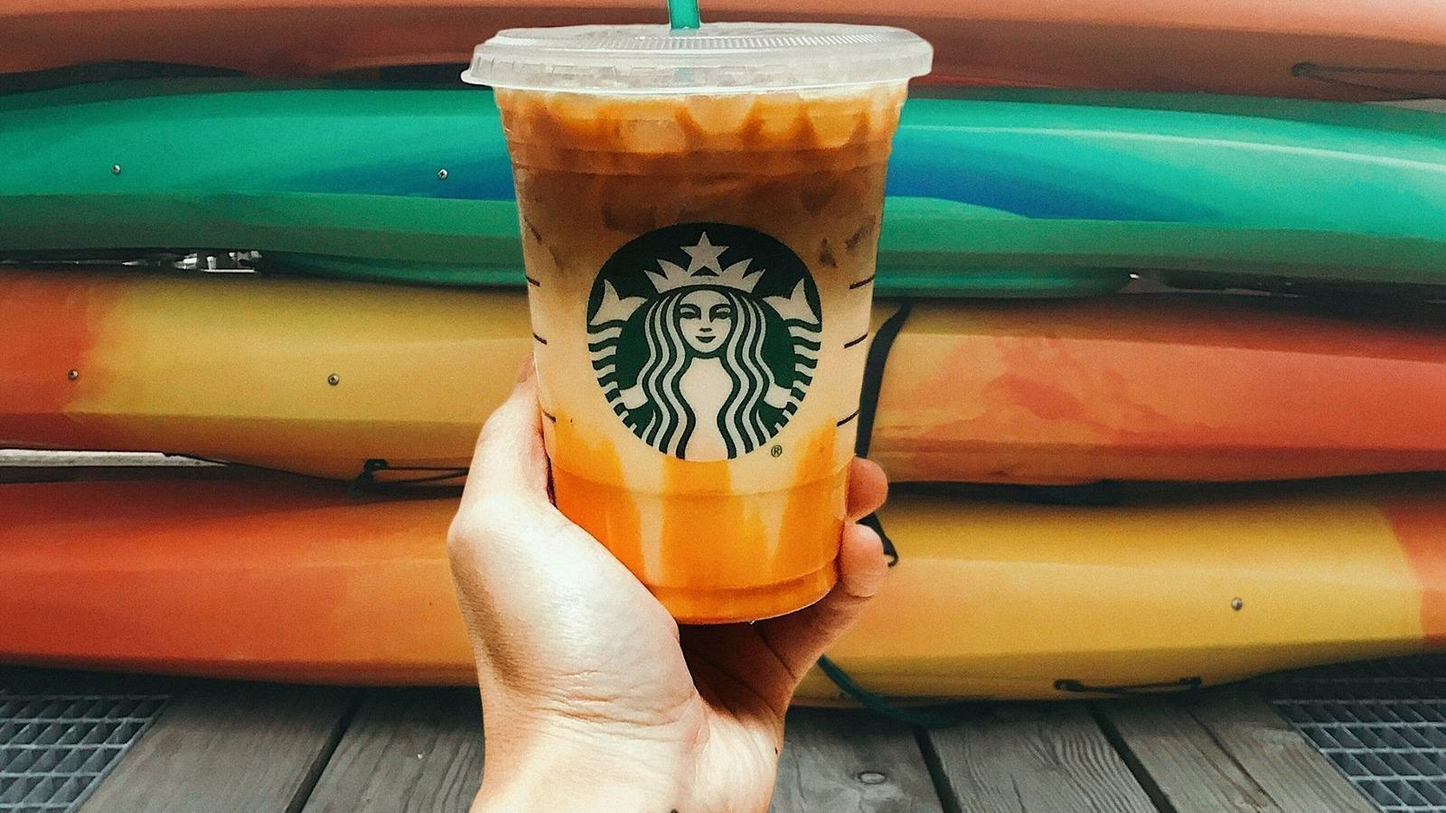cup-disposable: (459, 16, 936, 626)
